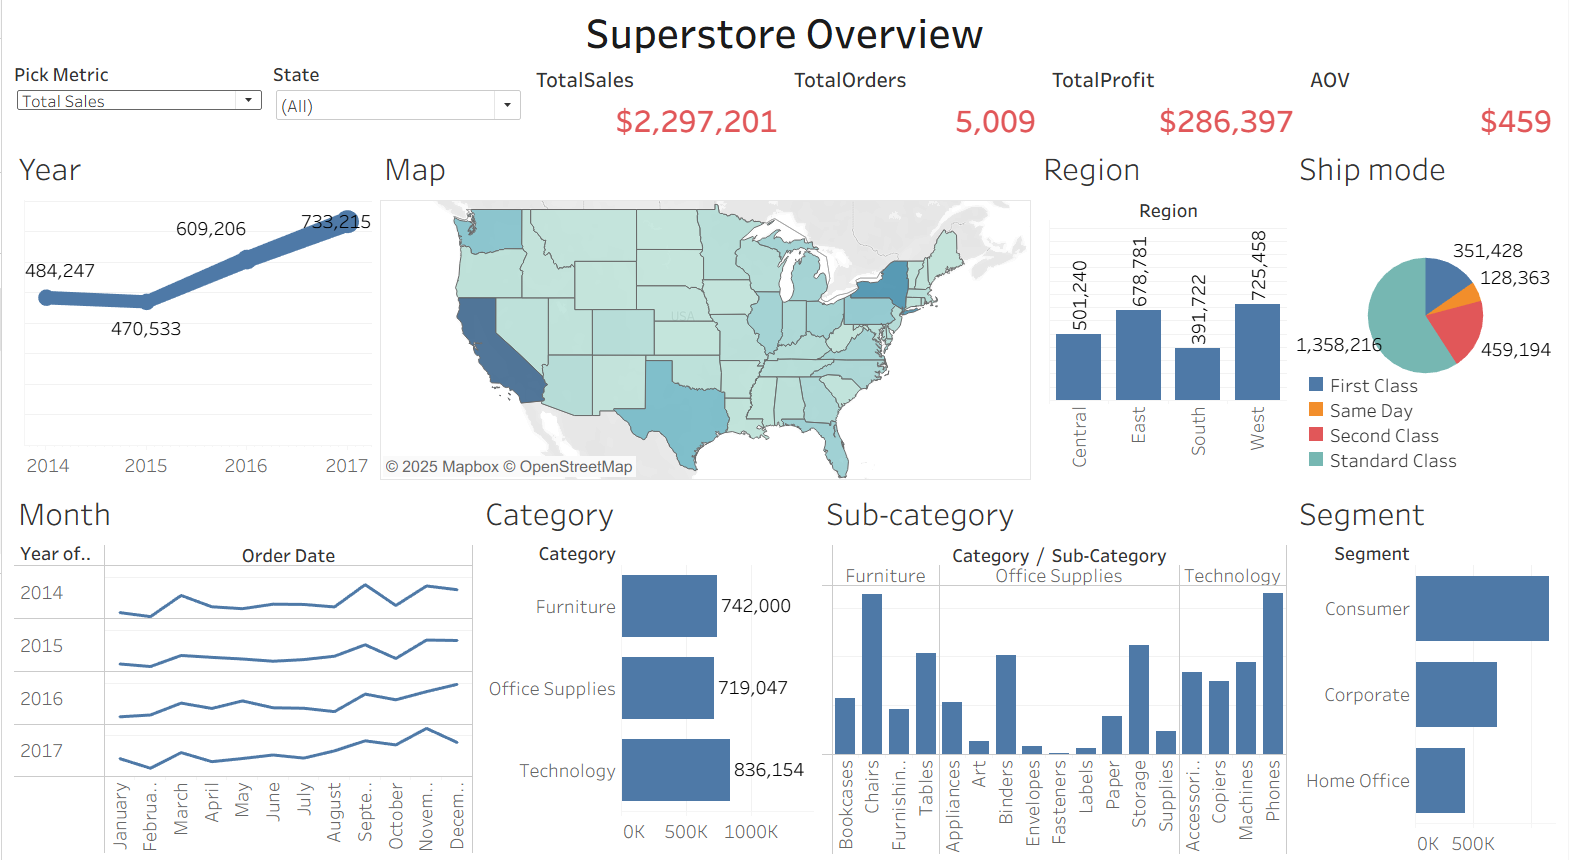

This screenshot's page, from the dashboard's own definition file:
{"tool":"tableau","page":{"name":"Overview","canvas":[1566,868],"ordinal":1},"visuals":[{"type":"text","box":[8,8,1550,50]},{"type":"parameter","param":"[Parameters].[Parameter 5]","box":[8,58,259,82]},{"type":"filter","title":"Map","param":"[federated.1he7qs112cn0321eepdp601evxoy].[none:State:nk]","box":[267,58,259,82]},{"type":"worksheet","title":"TotalSales","mark":"Automatic","box":[526,58,258,82]},{"type":"worksheet","title":"TotalOrders","mark":"Automatic","box":[784,58,258,82]},{"type":"worksheet","title":"TotalProfit","mark":"Automatic","box":[1042,58,258,82]},{"type":"worksheet","title":"AOV","mark":"Automatic","box":[1300,58,258,82]},{"type":"worksheet","title":"Year","mark":"Line","rows":["Calculation_1279022342674292740"],"cols":["Order Date"],"box":[8,140,366.1,345]},{"type":"worksheet","title":"Map","mark":"Multipolygon","box":[374.1,140,658.7,345]},{"type":"worksheet","title":"Region","mark":"Automatic","rows":["Calculation_1279022342674292740"],"cols":["Region"],"box":[1032.8,140,256.2,345]},{"type":"worksheet","title":"Ship mode","mark":"Pie","box":[1289,140,269,296]},{"type":"legend","title":"Ship mode","param":"[federated.1he7qs112cn0321eepdp601evxoy].[none:Ship Mode:nk]","box":[1302,373,158,126]},{"type":"worksheet","title":"Month","mark":"Line","rows":["Order Date","Calculation_1279022342674292740"],"cols":["Order Date"],"box":[8,485,467,375]},{"type":"worksheet","title":"Category","mark":"Automatic","rows":["Category"],"cols":["Calculation_1279022342674292740"],"box":[475,485,341,375]},{"type":"worksheet","title":"Sub-cat","mark":"Automatic","rows":["Calculation_1279022342674292740"],"cols":["Category","Sub-Category"],"box":[816,485,473,375]},{"type":"worksheet","title":"Segment","mark":"Automatic","rows":["Segment"],"cols":["Calculation_1279022342674292740"],"box":[1289,485,269,375]}]}

Visuals, with their boxes in screenshot pixels (x1, y1, x2, y2), scaled from the page's 1566x868 canvas onto the 1569x860 screenshot:
text: [8, 8, 1561, 57]
parameter: [8, 57, 268, 139]
"Map" filter: [268, 57, 527, 139]
"TotalSales" worksheet: [527, 57, 786, 139]
"TotalOrders" worksheet: [786, 57, 1044, 139]
"TotalProfit" worksheet: [1044, 57, 1302, 139]
"AOV" worksheet: [1302, 57, 1561, 139]
"Year" worksheet (Line marks): [8, 139, 375, 481]
"Map" worksheet (Multipolygon marks): [375, 139, 1035, 481]
"Region" worksheet: [1035, 139, 1291, 481]
"Ship mode" worksheet (Pie marks): [1291, 139, 1561, 432]
"Ship mode" legend: [1304, 370, 1463, 494]
"Month" worksheet (Line marks): [8, 481, 476, 852]
"Category" worksheet: [476, 481, 818, 852]
"Sub-cat" worksheet: [818, 481, 1291, 852]
"Segment" worksheet: [1291, 481, 1561, 852]
